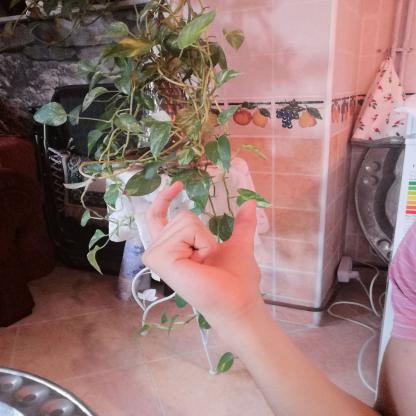NOON: (122, 171, 286, 322)
